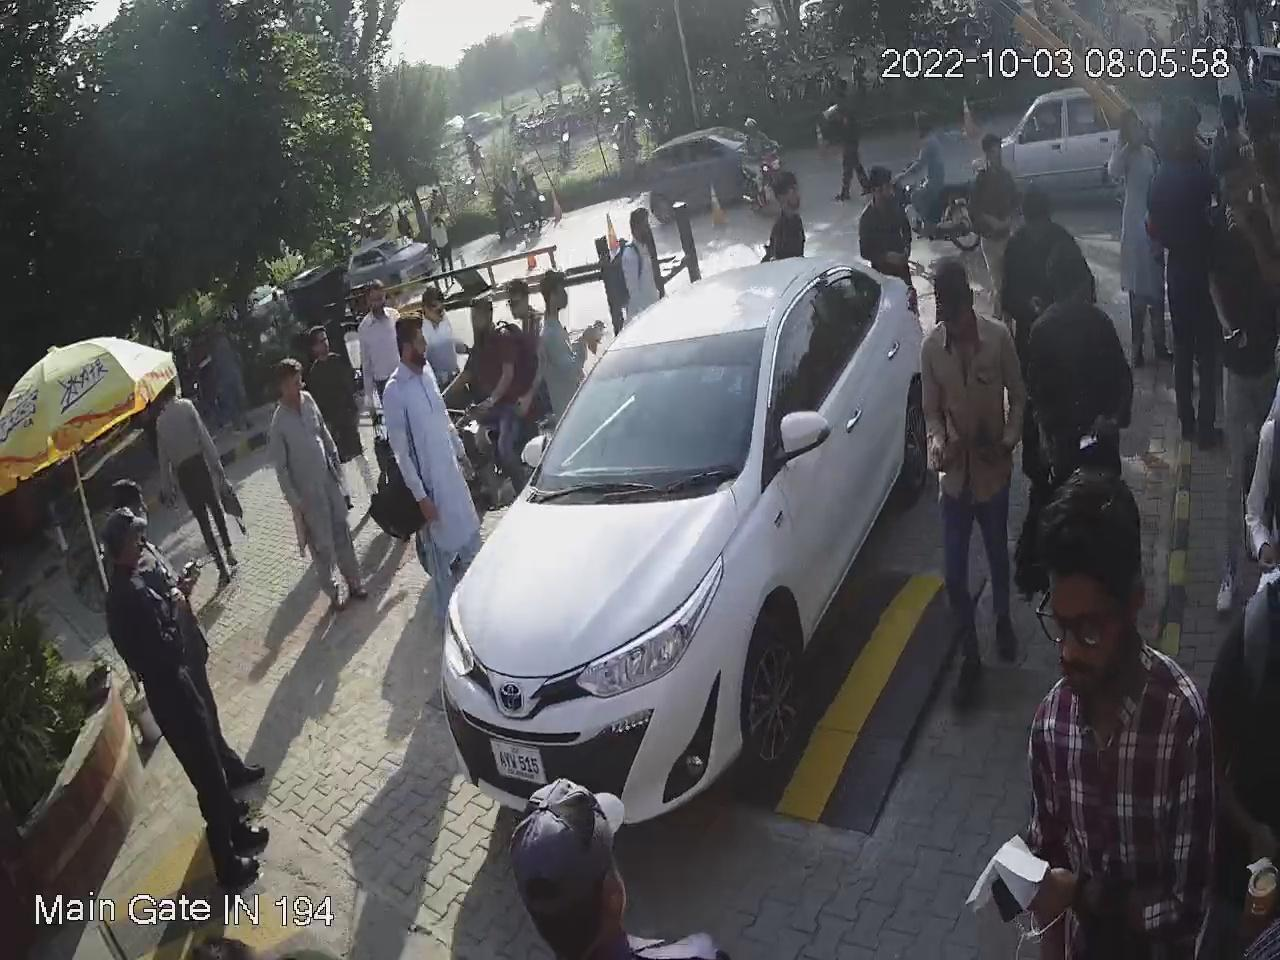windshield: (523, 318, 780, 490)
